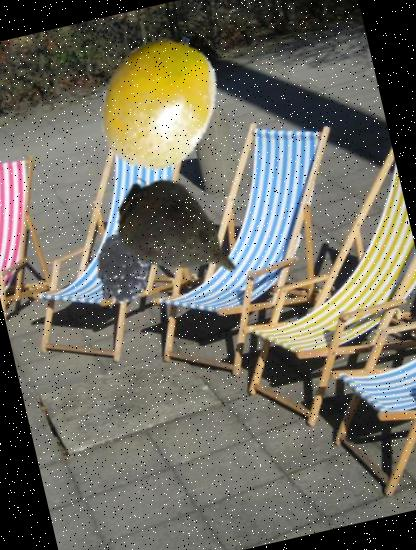Beetroot: (97, 152, 260, 314)
Maracuja: (74, 17, 242, 186)
Mulberry: (83, 219, 181, 317)
